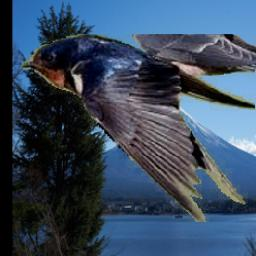Swallow: (21, 35, 255, 223)
